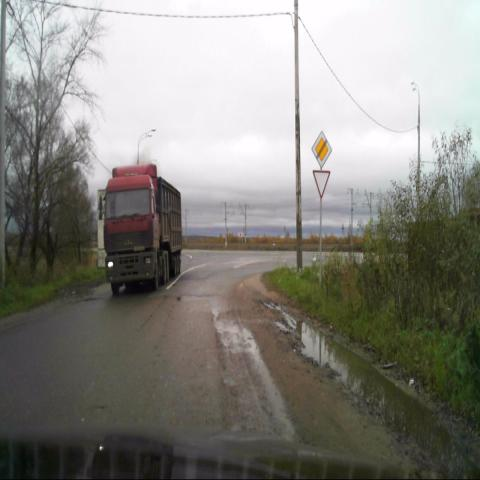2_2: (310, 130, 332, 169)
